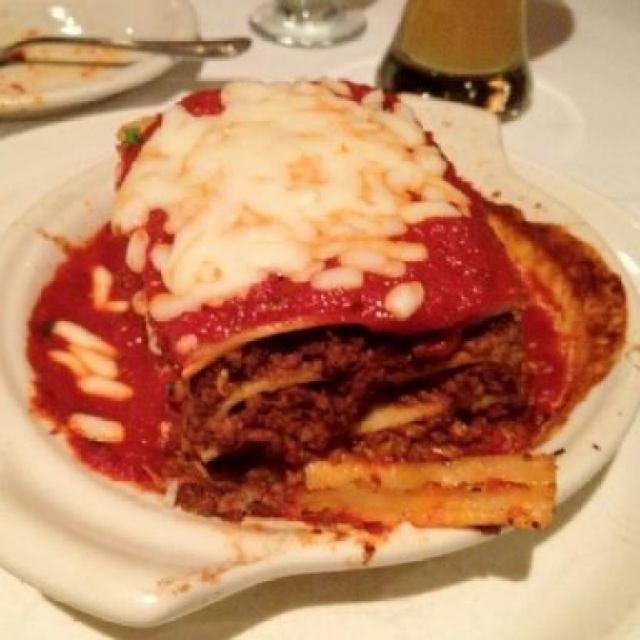Lasagna: (56, 64, 575, 544)
